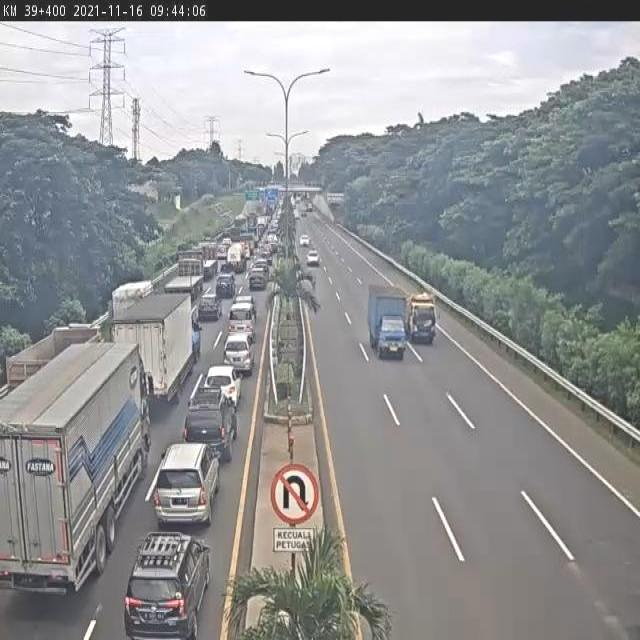Car: (123, 531, 210, 640), (150, 442, 220, 527), (182, 393, 237, 464), (203, 365, 243, 410), (222, 333, 255, 377), (230, 293, 257, 320), (198, 294, 222, 321), (215, 272, 236, 298), (248, 269, 268, 291), (306, 250, 320, 266), (300, 234, 310, 247), (300, 208, 308, 216)
Truck: (0, 343, 154, 602), (109, 291, 197, 411), (368, 284, 408, 358), (407, 292, 437, 347), (112, 281, 153, 316), (176, 248, 207, 286), (192, 241, 219, 281), (227, 242, 247, 274), (238, 235, 254, 257)
